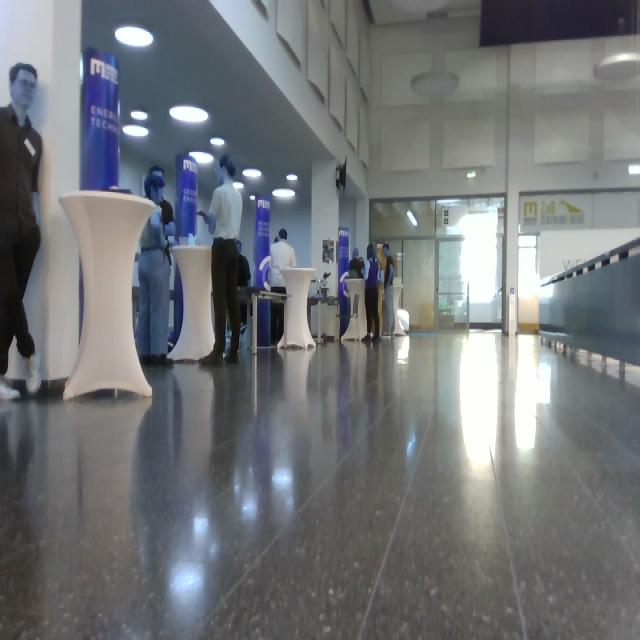door: (436, 236, 469, 332)
light bulb: (594, 52, 640, 82), (411, 70, 459, 97), (115, 25, 154, 48), (169, 105, 209, 124), (24, 352, 42, 394), (189, 150, 214, 164), (123, 125, 149, 138), (272, 188, 296, 198), (131, 110, 148, 121), (407, 211, 418, 227)
person: (1, 62, 44, 401), (197, 155, 243, 367), (136, 165, 176, 366), (270, 229, 298, 345), (362, 244, 381, 341), (382, 244, 397, 337)
staircase: (538, 236, 640, 381)
tiled floor: (1, 328, 639, 638)
